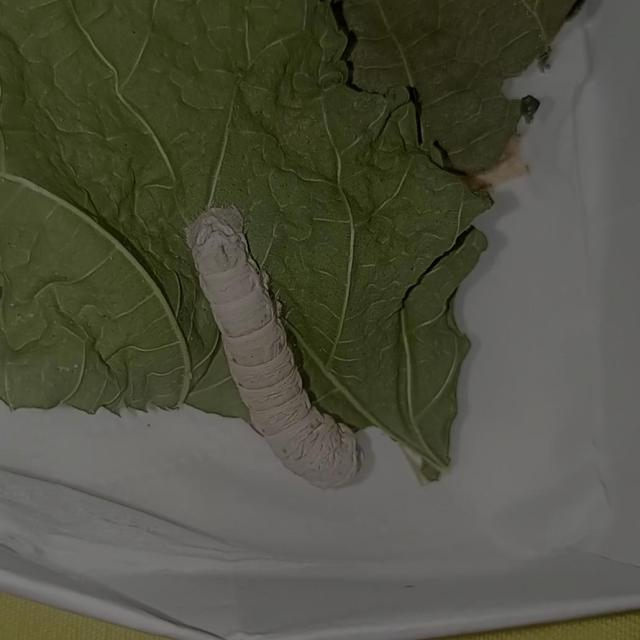Healthy: (151, 176, 424, 549)
